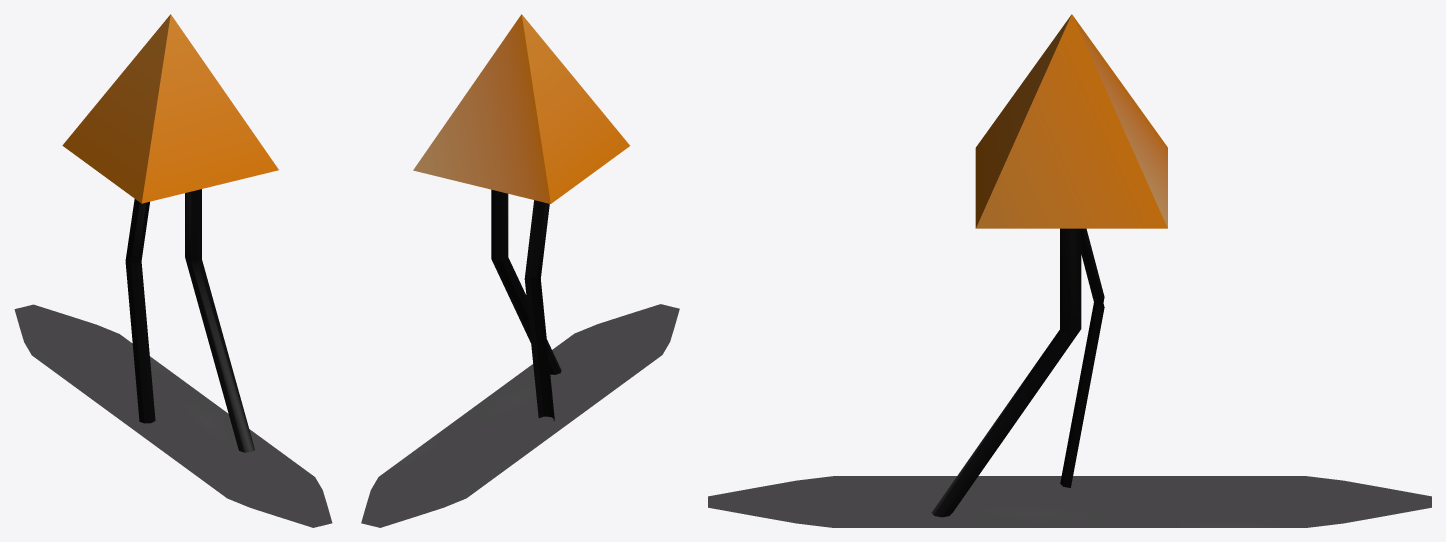
Rendered from dude.fbx.
3 renders of one model, left to right at view 1: azimuth 30°, elevation 25°; view 2: azimuth 150°, elevation 25°; view 3: azimuth 270°, elevation 25°, orthographic. The views are drawn at different scales.
Visible parts, largest first — view 1: Cube; view 2: Cube; view 3: Cube.
Part boxes in pixels (bbox=[...]): Cube: bbox=[14, 14, 332, 527]; Cube: bbox=[361, 14, 679, 527]; Cube: bbox=[708, 14, 1431, 527].
Size of the model in its own units: 2 by 5.59 by 7.53.
